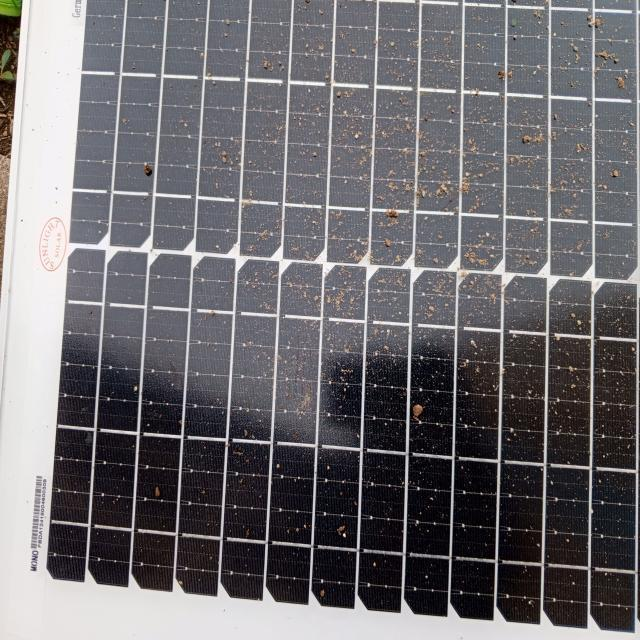Surface Contaminant: (47, 46, 630, 589)
